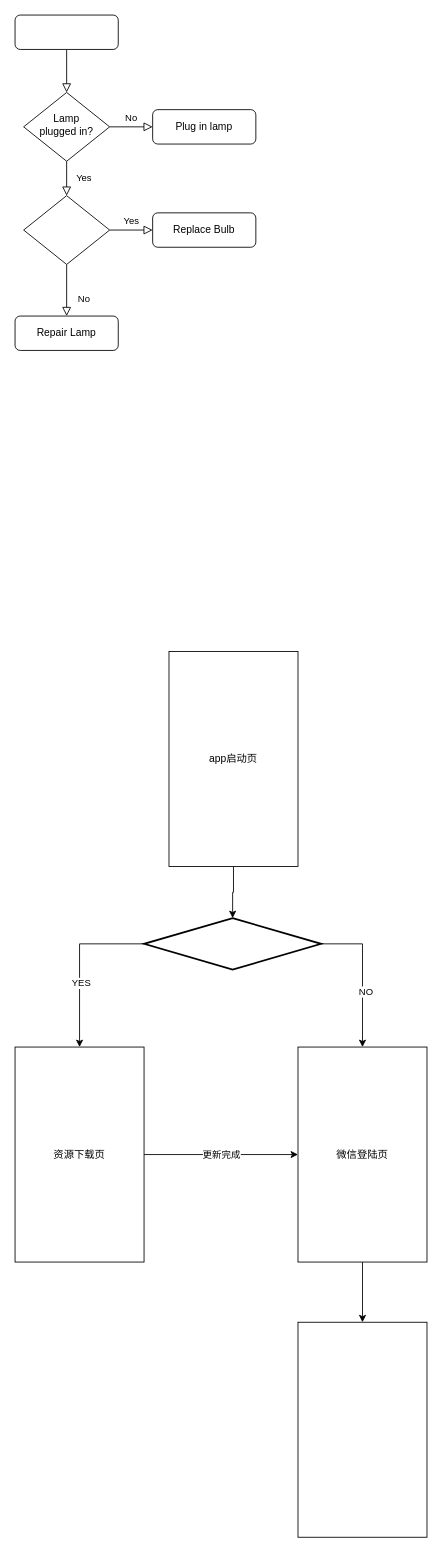
The diagram is 442 pixels wide and 1552 high, and some of its shapes have lost their labels. Each missing label, with the centre of its shape:
"Bulb burned out?" belongs at pixel 66 229.
"Lamp doesn't work" belongs at pixel 66 31.
"Loading界面（加载一些配置信息）" belongs at pixel 362 1429.
"资源是否需要更新" belongs at pixel 232 943.
